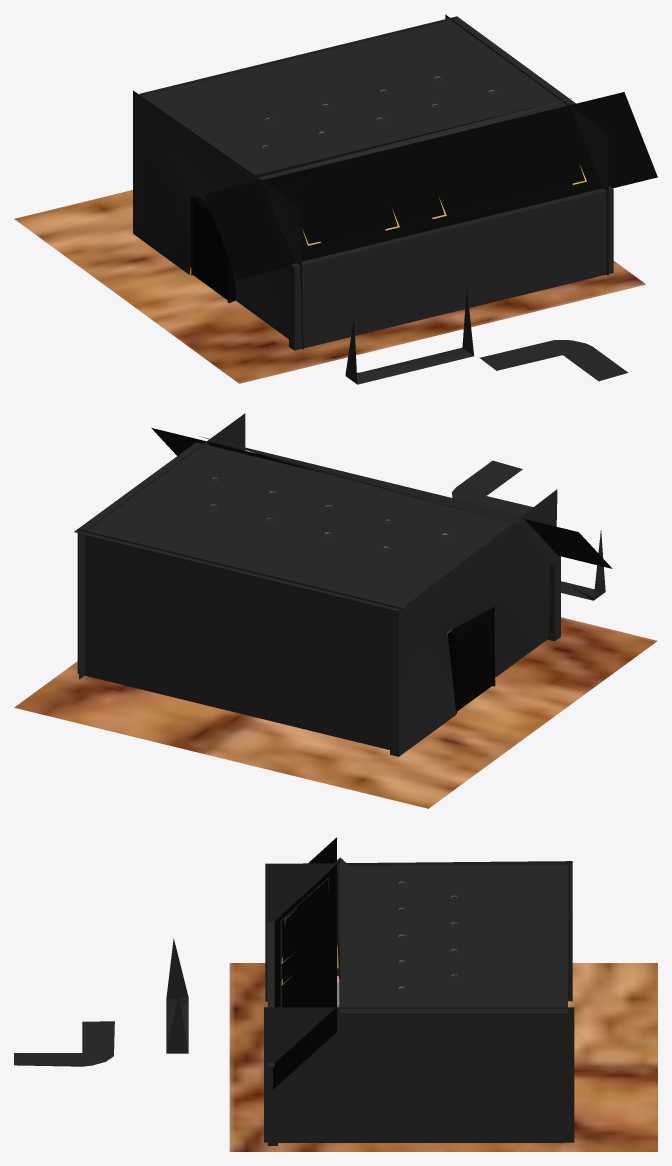
Rendered from OfficeOBJ.obj.
3 renders of one model, top to bottom at view 1: azimuth 30°, elevation 25°; view 2: azimuth 150°, elevation 25°; view 3: azimuth 270°, elevation 25°, orthographic. The views are drawn at different scales.
Parts seen in each view (by area): view 1: pPlane3, pPlane2, pCube3, pPlane1, polySurface10, pCube21, polySurface2 group1, pCube20, pCube1, group2 pCube27, group2 pCube26, pCube2 (+1 smaller); view 2: pCube2, pPlane2, pPlane1, polySurface10, polySurface2 group1, pPlane3, pCube21, pCube29, pCube1, group2 pCube26, group2 pCube27, pCube3 (+2 smaller); view 3: pCube1, pPlane2, pPlane1, pPlane3, polySurface10, pCube21, pCube20, pCube30, pCube3, polySurface2 group1.
Part boxes in pixels (box(x1,y1,x2,y2)): pPlane3: box(204, 92, 657, 279); pPlane2: box(139, 16, 575, 180); pCube3: box(289, 186, 613, 350); pPlane1: box(14, 190, 645, 383); polySurface10: box(133, 90, 303, 349); pCube21: box(479, 340, 628, 381); polySurface2 group1: box(252, 98, 587, 275); pCube20: box(345, 287, 473, 384); pCube1: box(445, 14, 608, 275); group2 pCube27: box(193, 200, 211, 288); group2 pCube26: box(211, 214, 227, 299); pCube2: box(139, 17, 458, 197); pCube2: box(77, 529, 401, 744); pPlane2: box(74, 442, 515, 610); pPlane1: box(14, 605, 657, 808); polySurface10: box(390, 489, 557, 756); polySurface2 group1: box(201, 436, 560, 566); pPlane3: box(151, 428, 612, 568); pCube21: box(452, 460, 533, 515); pCube29: box(84, 670, 390, 749); pCube1: box(79, 413, 245, 679); group2 pCube26: box(473, 610, 492, 698); group2 pCube27: box(457, 623, 473, 711); pCube3: box(548, 556, 560, 640); pCube1: box(264, 1007, 574, 1142); pPlane2: box(339, 865, 567, 1012); pPlane1: box(229, 963, 657, 1151); pPlane3: box(273, 837, 336, 1089); polySurface10: box(265, 861, 572, 1001); pCube21: box(14, 1021, 114, 1066); pCube20: box(166, 938, 188, 1053); pCube30: box(278, 1137, 562, 1142); pCube3: box(267, 921, 277, 1145); polySurface2 group1: box(280, 857, 347, 1007).
Bounding box in the file's own units: 23.43 × 7.87 × 31.15.
